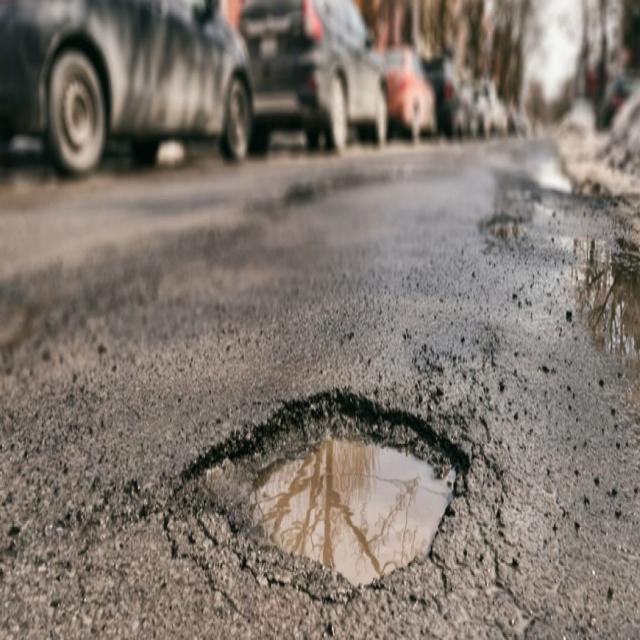Pothole: (198, 407, 466, 587)
